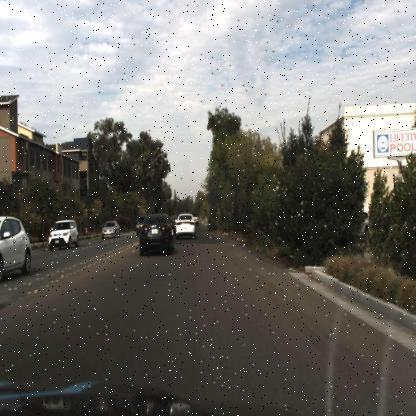car: (0, 209, 39, 282), (136, 201, 178, 260), (43, 211, 84, 255), (46, 216, 80, 254), (171, 204, 200, 247), (98, 218, 125, 244), (164, 217, 176, 241)
